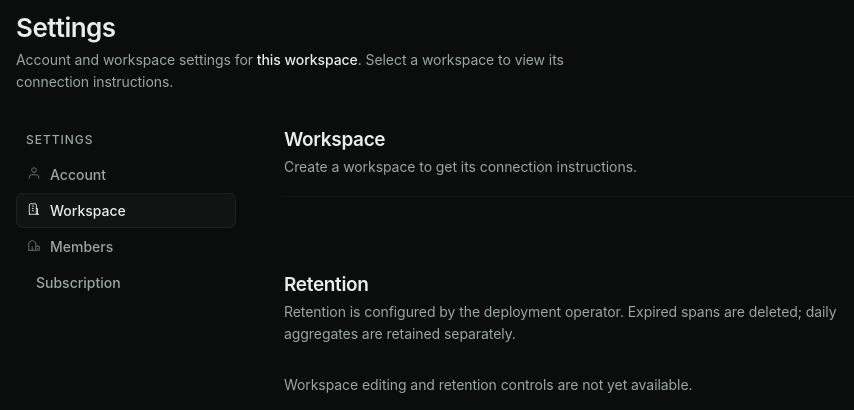
Test: application extensions › renders a registered settings section
Click the button "Subscription".
click(126, 283)  # box top-left (16, 265), bottom-right (236, 300)
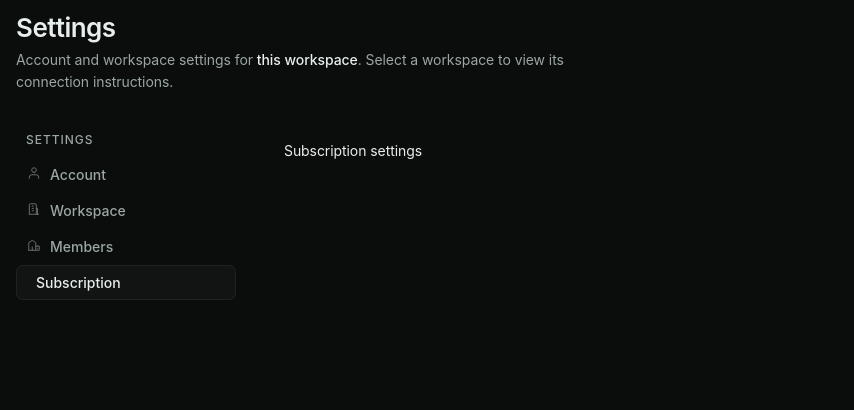
Expected: the text "Subscription settings" is shown, top-left (284, 142), bottom-right (422, 159)
